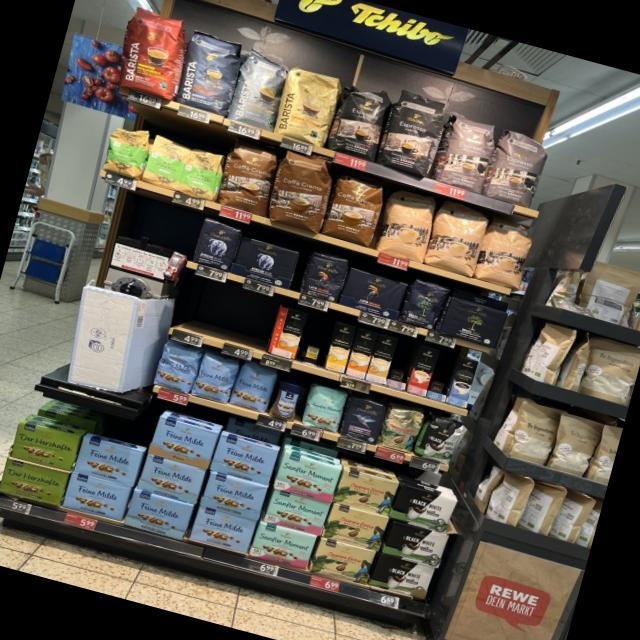AB Bohne: (190, 215, 242, 272)
AB Gemahlen: (230, 233, 300, 290)
Athiopien Bohne: (100, 120, 154, 180)
Athiopien Gemahlen: (142, 132, 190, 191), (178, 146, 224, 202)
BM Bohne: (400, 273, 452, 333)
BM Gemahlen: (438, 294, 509, 349)
BW Bohne: (418, 414, 468, 466)
BW Gemahlen: (388, 480, 458, 534), (381, 519, 450, 569), (370, 552, 434, 600)
Barista CB: (272, 64, 344, 148)
Barista CC: (226, 45, 292, 133)
Barista Espresso: (171, 25, 245, 117)
Barista Kolumbien: (108, 0, 195, 103)
C Fino Bohne: (338, 394, 388, 446)
CC Mild: (422, 195, 492, 279), (373, 182, 441, 264), (474, 211, 539, 292)
CC Vollmundig 36 Pads: (264, 147, 339, 235), (322, 167, 390, 248), (215, 134, 282, 216)
Colombia BB Bohne: (378, 402, 424, 454)
Colombia BB Gemahlen: (322, 502, 388, 552), (332, 467, 398, 517), (312, 536, 377, 586)
Empty Shelf: (173, 275, 276, 352), (294, 313, 335, 368), (428, 350, 458, 395), (388, 338, 417, 383)
Espresso Aromatisch: (432, 110, 502, 196), (484, 126, 552, 211)
Espresso Kraftig: (376, 86, 450, 180), (324, 77, 394, 165)
FM Bohne: (190, 352, 240, 405), (152, 340, 200, 394), (230, 361, 276, 414)
FM Gemahlen: (148, 415, 218, 470), (74, 434, 144, 488), (122, 488, 192, 542), (210, 433, 280, 486), (60, 471, 132, 522), (200, 470, 267, 521), (137, 454, 205, 504), (191, 506, 256, 554)
FM Instant: (268, 378, 304, 423)
Herzhatfe Mundig: (7, 420, 80, 472), (0, 457, 68, 507)
LG Bohne: (297, 246, 350, 304)
LG Gemahlen: (339, 265, 409, 321)
SM Bohne: (300, 381, 350, 435)
SM Gemahlen: (274, 448, 342, 503), (249, 520, 316, 572), (264, 487, 331, 537)
Simo CCMild bigpack: (324, 322, 356, 374), (346, 327, 376, 379)
Simo CCVollmundig: (268, 306, 306, 359)
Simo Decaff: (366, 333, 396, 384)
Simo Es Brazil: (407, 344, 438, 396)
Simo Es Vanilla: (447, 356, 478, 408)
